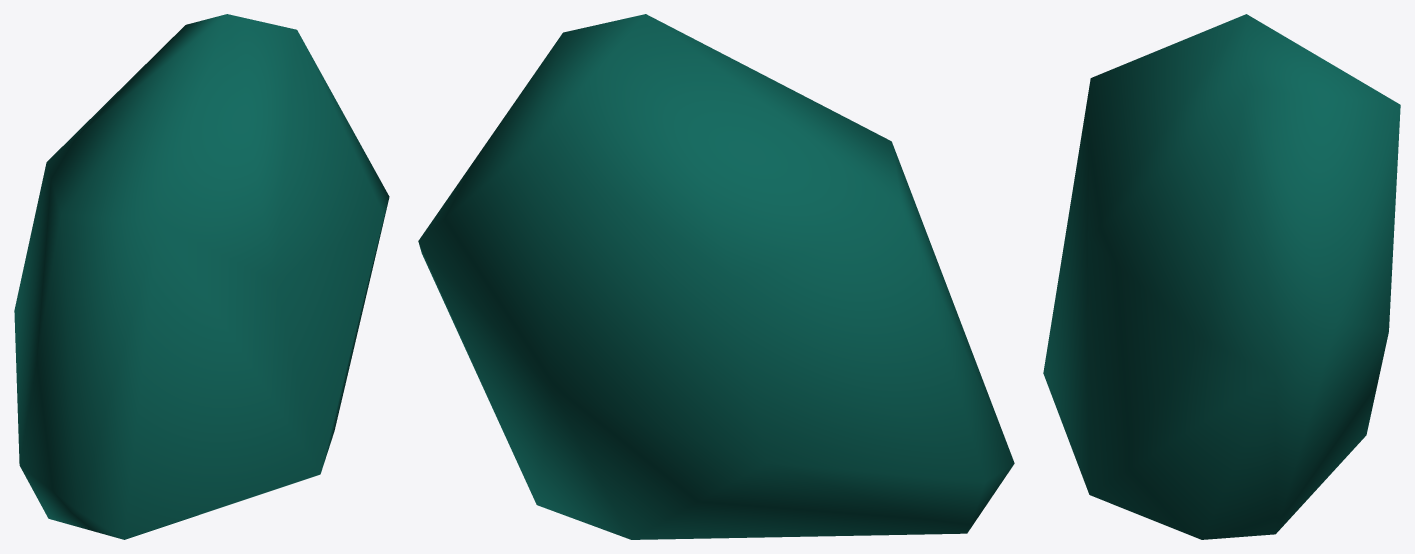
File: SM_008_COL.fbx
3 views of the same model, side by side, from view 1: azimuth 30°, elevation 25°; view 2: azimuth 150°, elevation 25°; view 3: azimuth 270°, elevation 25° (orthographic). The views are drawn at different scales.
Parts seen in each view (by area): view 1: SM_008_COL; view 2: SM_008_COL; view 3: SM_008_COL.
Boxes of the visible parts, x1,y1,x2,y2 form: SM_008_COL: (14,14,389,539); SM_008_COL: (418,14,1014,539); SM_008_COL: (1043,14,1400,539).
Size of the model in its own units: 0.8602 by 0.8255 by 0.5595.
